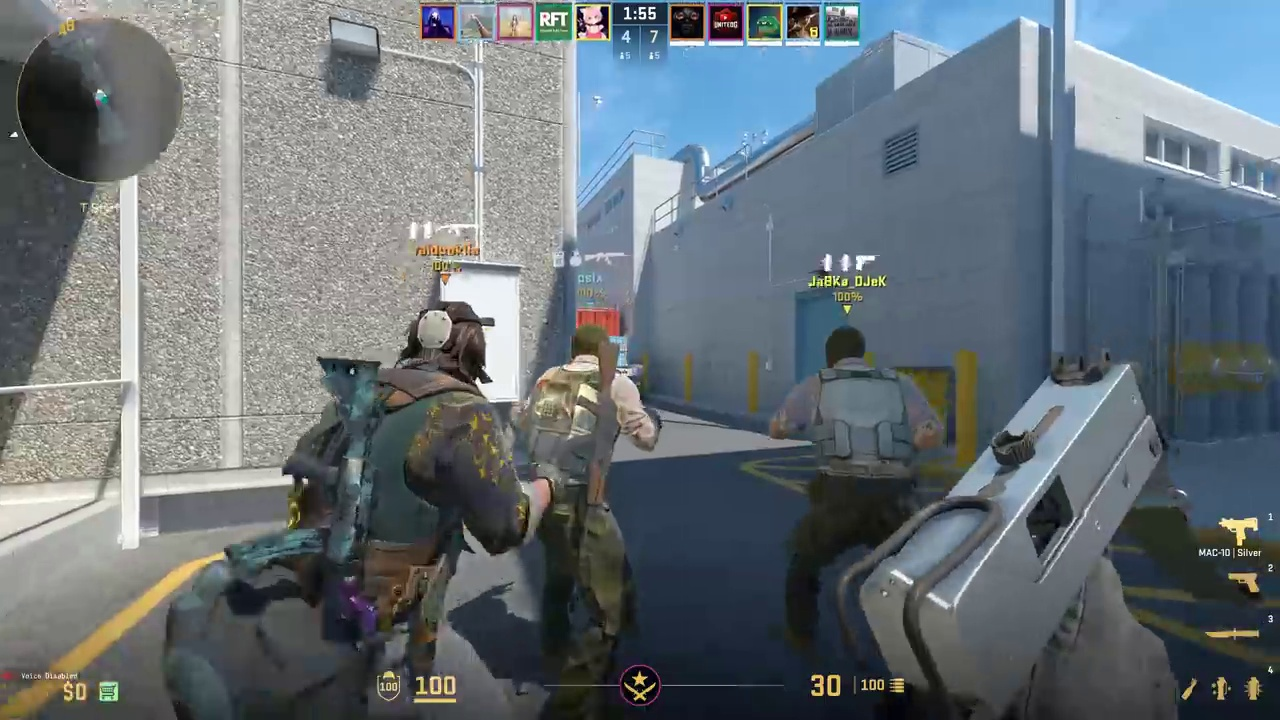Terrorist: (297, 301, 509, 719), (773, 326, 967, 712), (531, 327, 649, 683)
